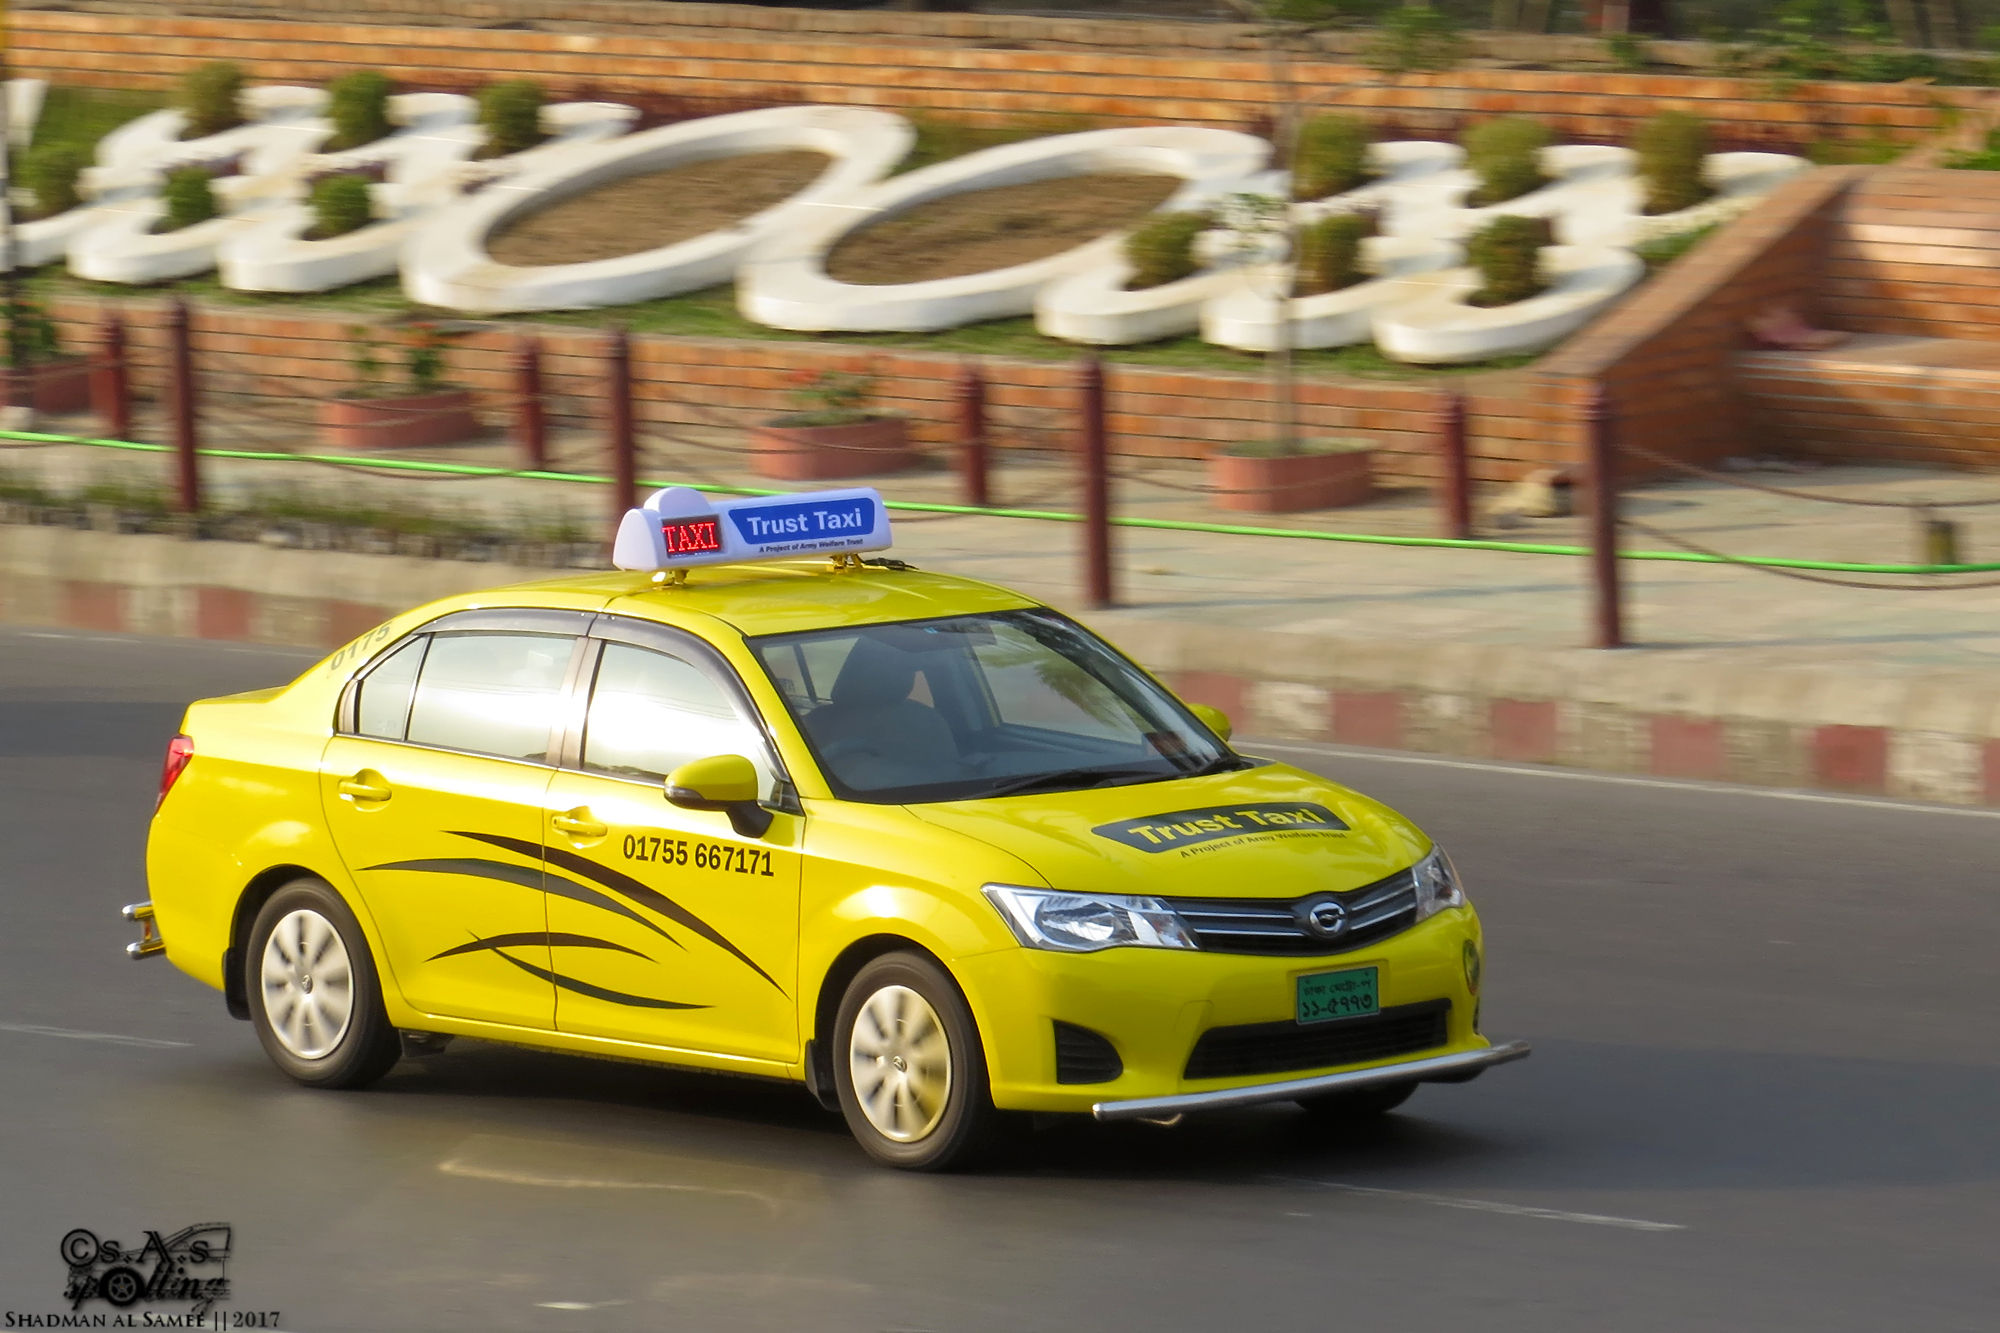taxi: (114, 484, 1535, 1172)
